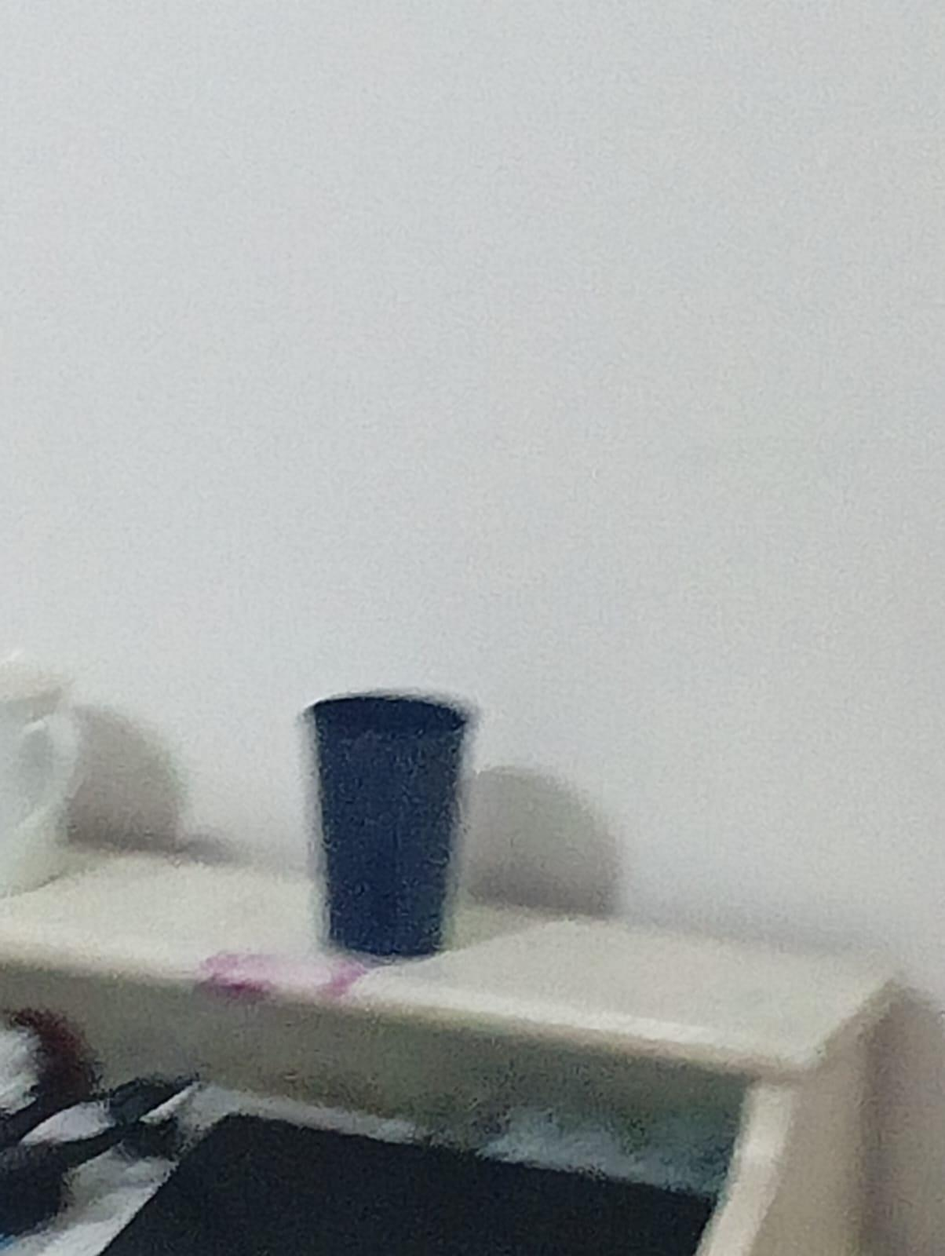cup: (306, 693, 470, 956), (0, 659, 80, 897)
